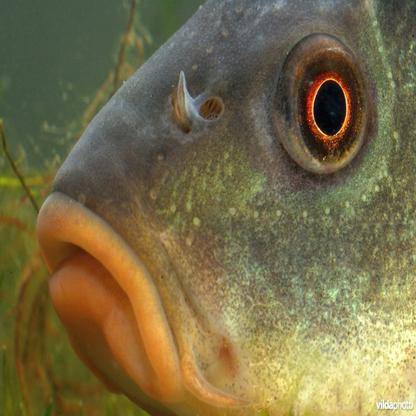fish: (36, 9, 414, 400)
